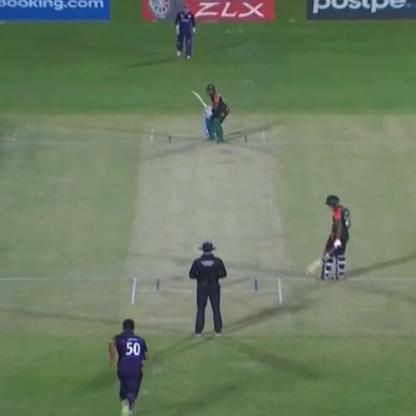pitch: (124, 118, 289, 319)
